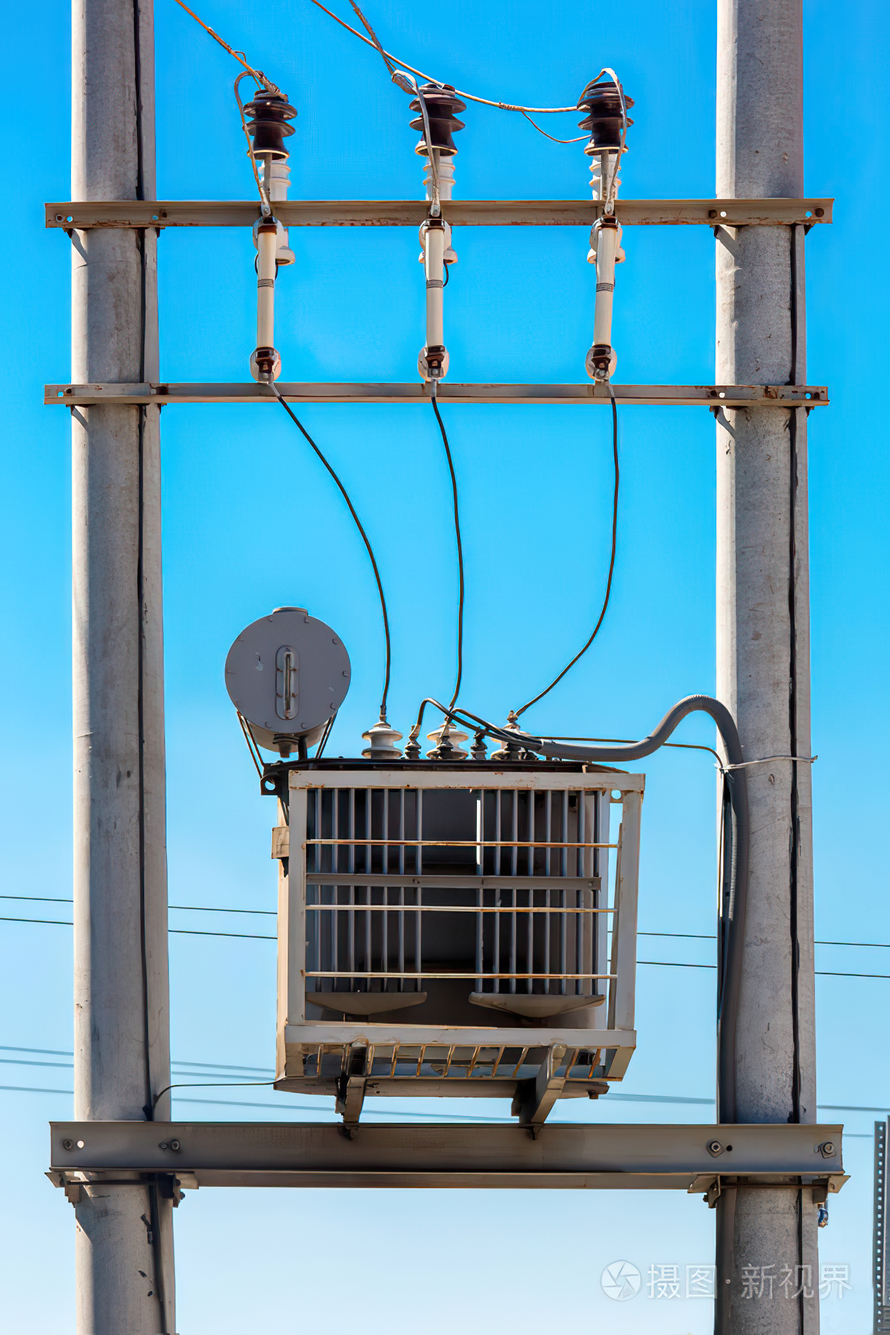insulator: (235, 83, 298, 147), (578, 84, 643, 140), (405, 93, 467, 144)
